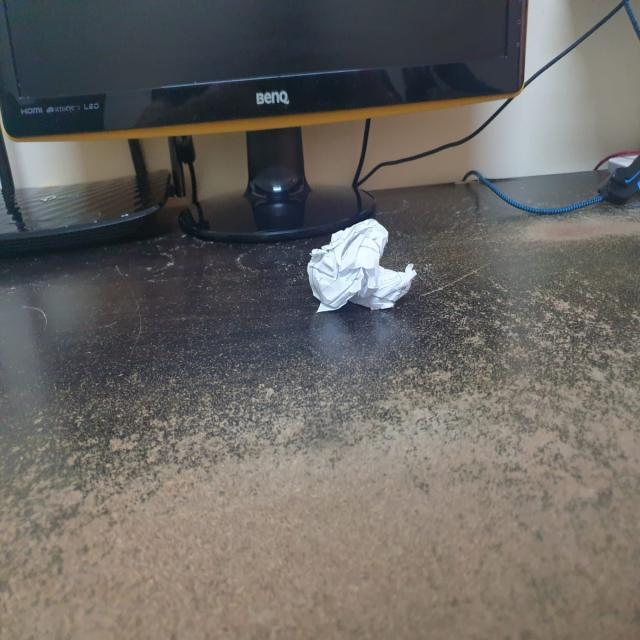Paper: (308, 212, 420, 315)
